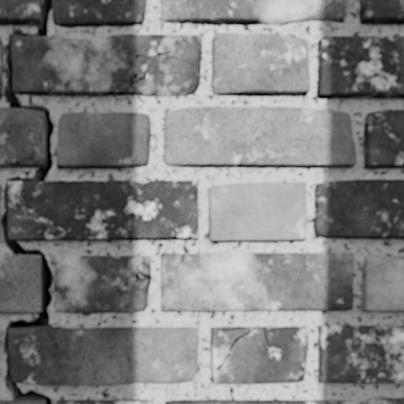brick: (13, 35, 201, 96), (164, 107, 355, 166), (9, 181, 198, 239), (161, 253, 352, 310), (10, 327, 197, 384), (212, 34, 308, 94), (209, 183, 305, 241), (211, 327, 307, 383), (55, 256, 149, 312), (317, 36, 403, 97), (57, 113, 150, 168), (314, 180, 403, 237), (318, 326, 403, 382), (161, 0, 349, 24), (0, 108, 45, 166), (53, 0, 144, 26), (0, 256, 40, 312), (361, 257, 403, 310), (364, 111, 403, 167), (360, 0, 403, 23), (0, 0, 40, 24), (166, 400, 355, 403), (58, 400, 151, 403), (366, 399, 403, 403), (0, 401, 44, 403), (0, 38, 1, 97)
crack: (0, 0, 54, 403), (216, 325, 275, 371), (117, 264, 150, 291), (174, 253, 186, 289), (0, 156, 33, 166), (323, 0, 334, 9)
